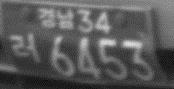3: (121, 38, 155, 81), (76, 9, 94, 34)
4: (74, 35, 102, 84), (94, 10, 111, 34)
5: (96, 37, 128, 82)
6: (49, 34, 75, 77)
경남_O: (38, 7, 75, 30)
러: (7, 32, 41, 63)
